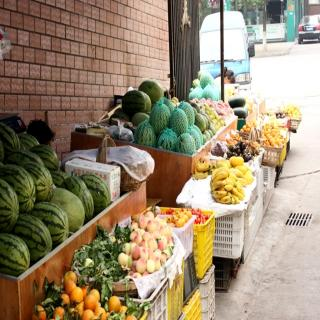Banana: (210, 167, 248, 205), (189, 159, 215, 180), (230, 157, 243, 165)
Watermelon: (0, 119, 110, 276), (109, 80, 216, 155), (228, 94, 246, 108), (233, 108, 245, 119)
